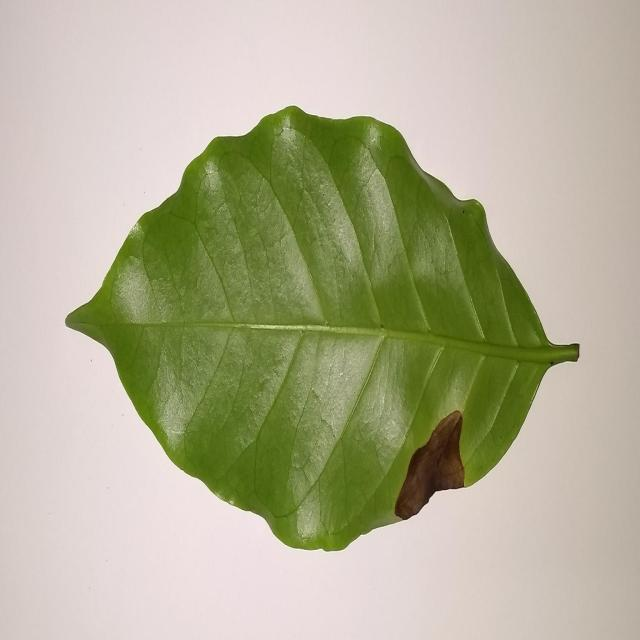phoma: (395, 410, 464, 520)
